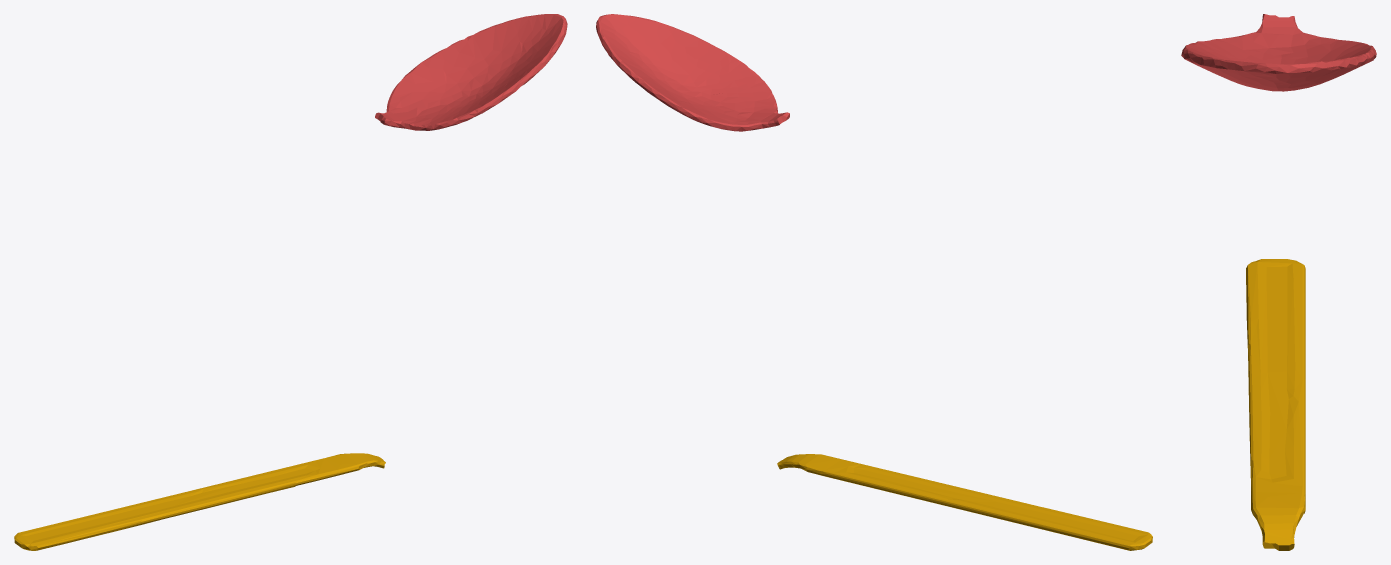
File: mode_1_2pcs_transformed.glb
3 views of the same model, side by side, from view 1: azimuth 30°, elevation 25°; view 2: azimuth 150°, elevation 25°; view 3: azimuth 270°, elevation 25° (orthographic). The views are drawn at different scales.
Parts seen in each view (by area): view 1: piece_1.obj, piece_0.obj; view 2: piece_1.obj, piece_0.obj; view 3: piece_0.obj, piece_1.obj.
Part boxes in pixels (box(x1,y1,x2,y2)): piece_1.obj: box(375, 14, 567, 130); piece_0.obj: box(14, 453, 385, 550); piece_1.obj: box(596, 14, 789, 131); piece_0.obj: box(777, 454, 1152, 550); piece_0.obj: box(1246, 259, 1305, 550); piece_1.obj: box(1181, 14, 1376, 91).
Bounding box in the file's own units: 1 × 0.7066 × 0.2013.
